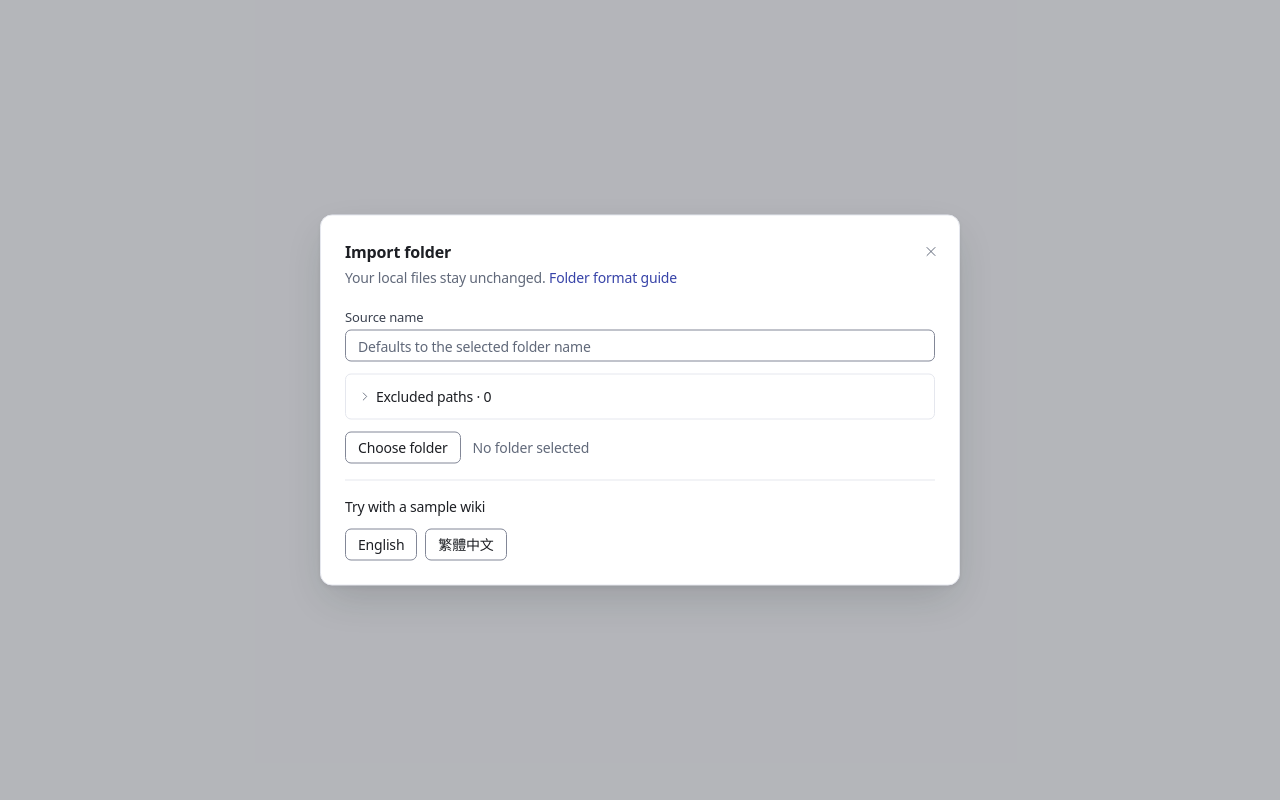
unlocks immediately when a slow folder scan is cancelled
Click the button "Choose folder" at (403, 448), box [345,432,460,464]
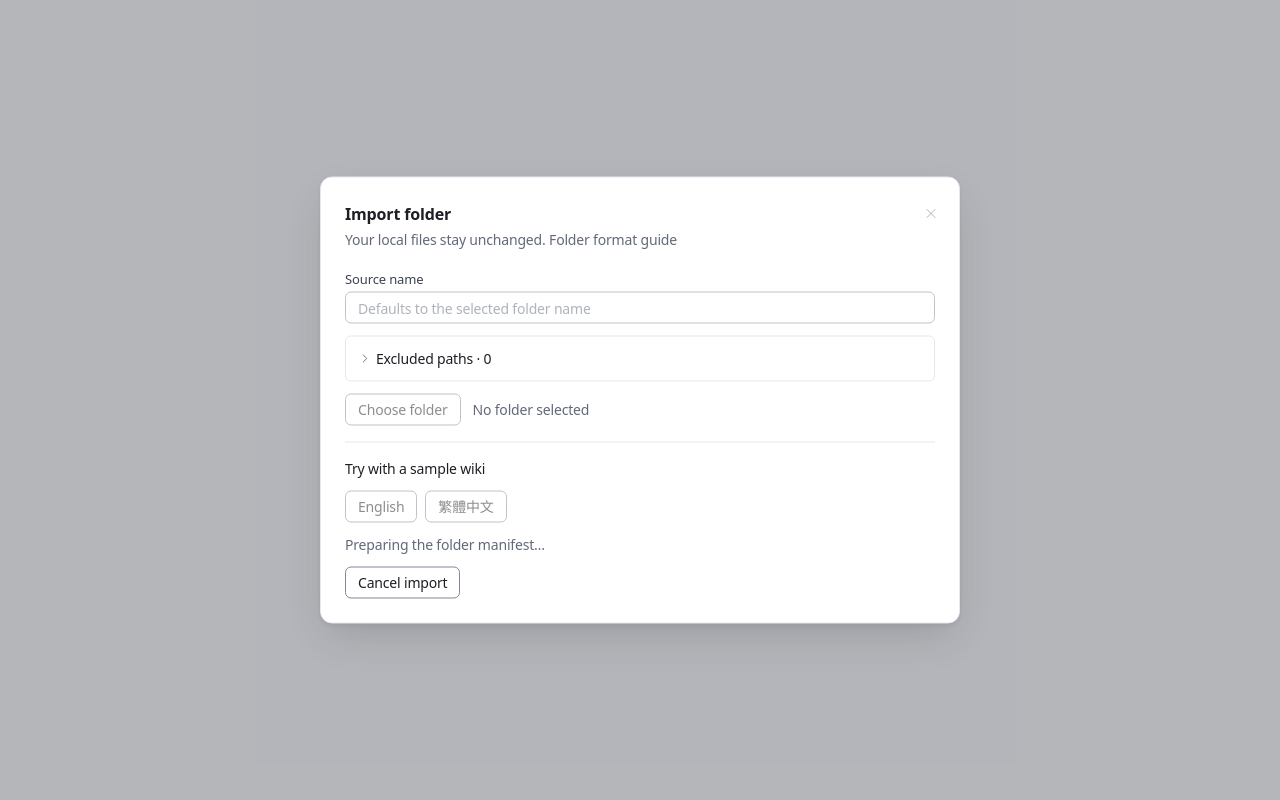
Click the button "Cancel import" at (403, 582), box [345,566,460,598]
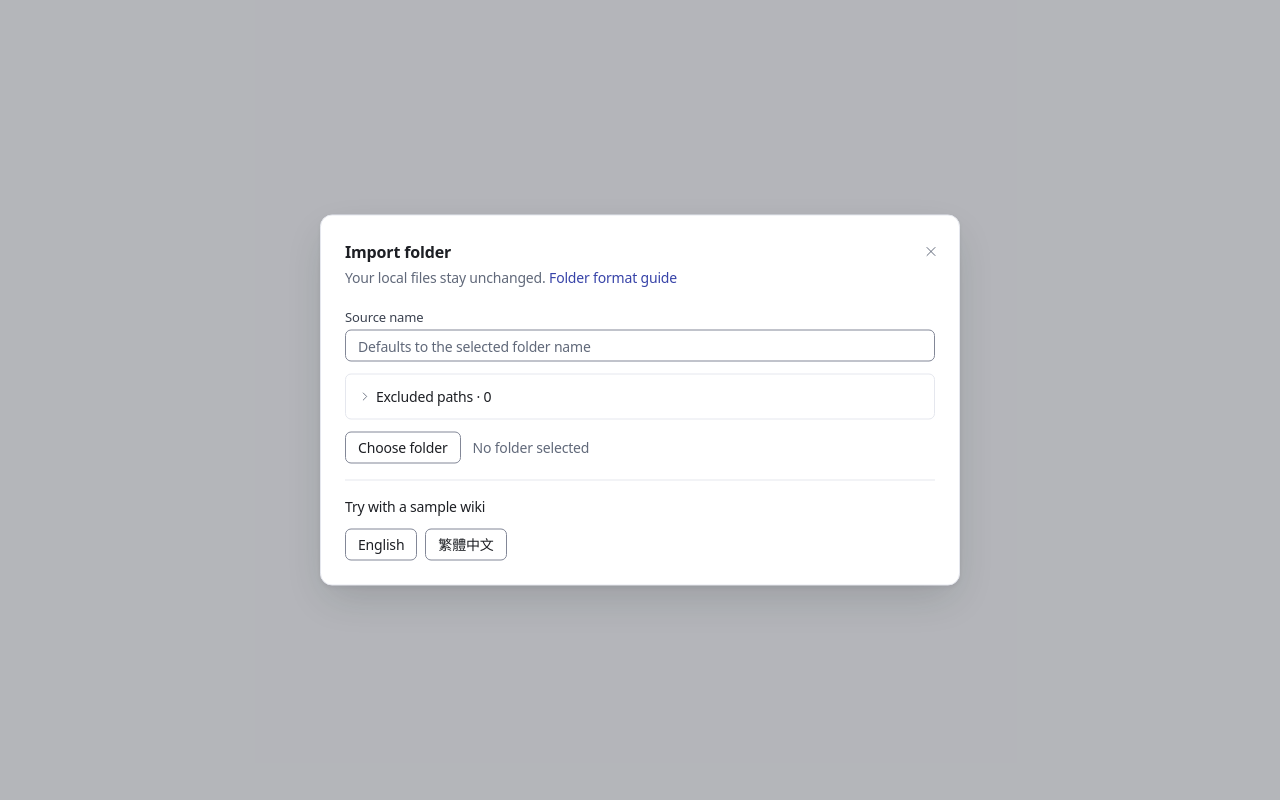
Now the button named "Close dialog" is enabled, box [919,240,943,264]
